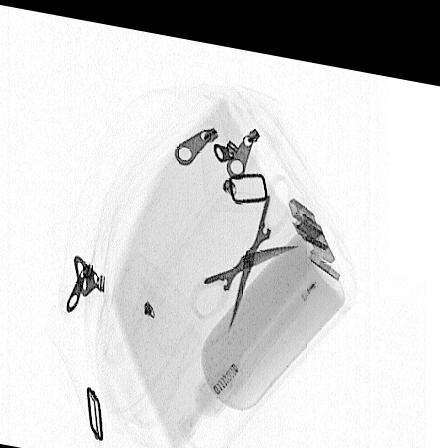Scissors: (191, 162, 301, 325)
